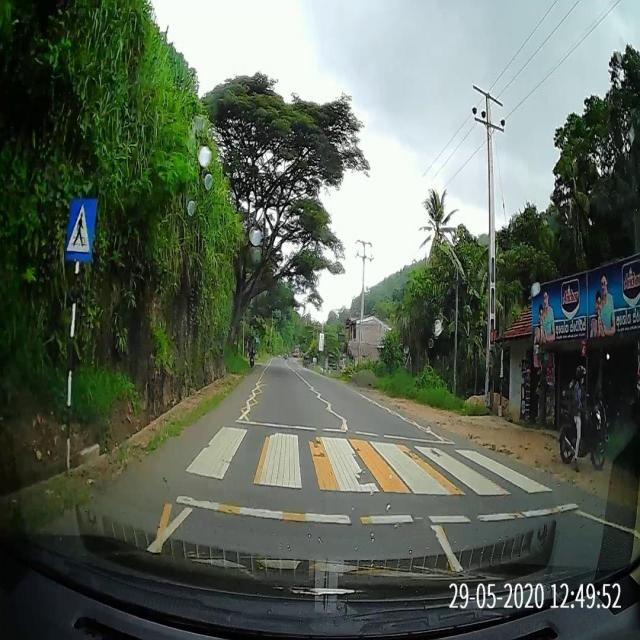Crosswalk: (182, 422, 557, 498)
